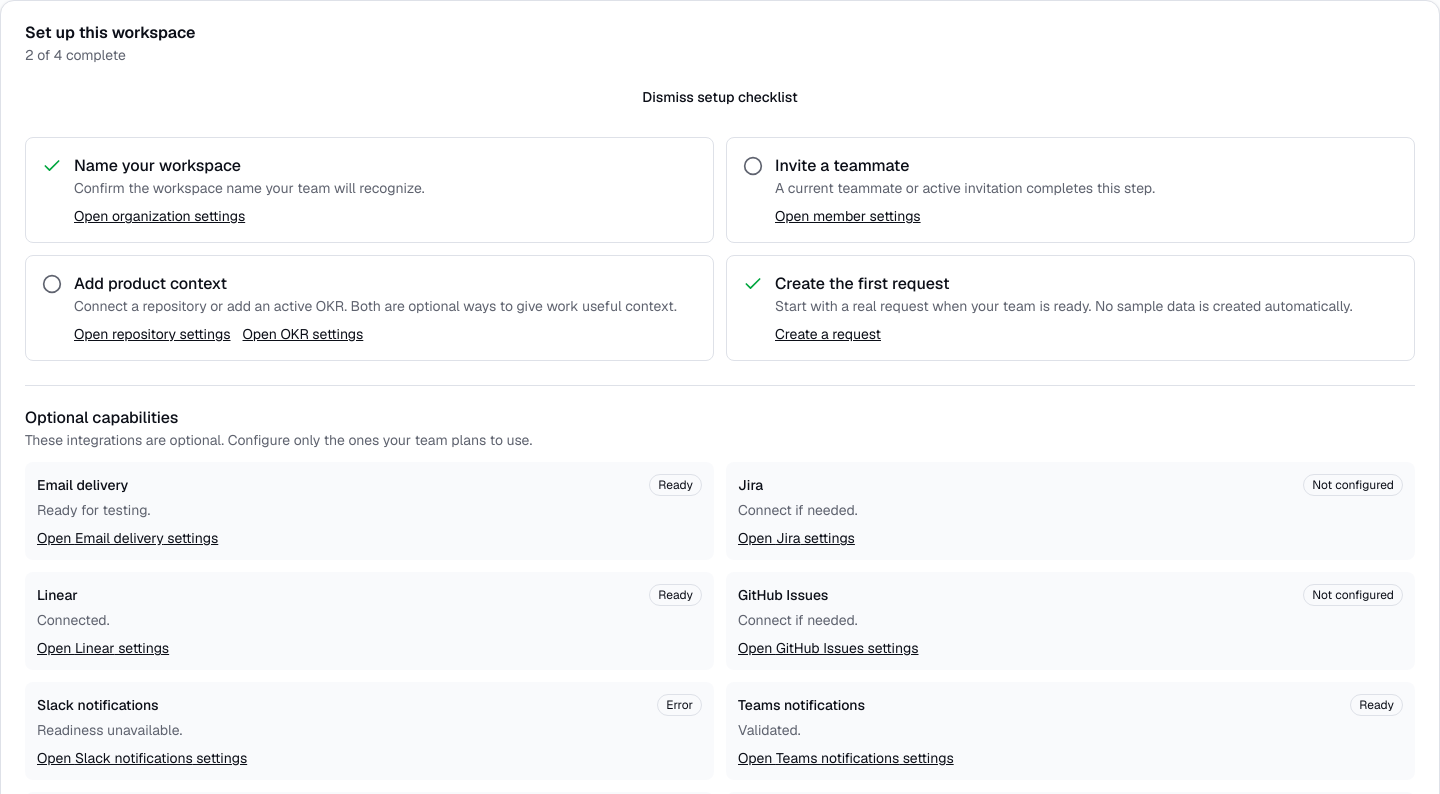
Test case: workspace setup checklist › keeps the checklist visible when persistence fails
Click the button "Dismiss setup checklist". click: click(720, 97)
box: x1=25 y1=81 x2=1415 y2=113
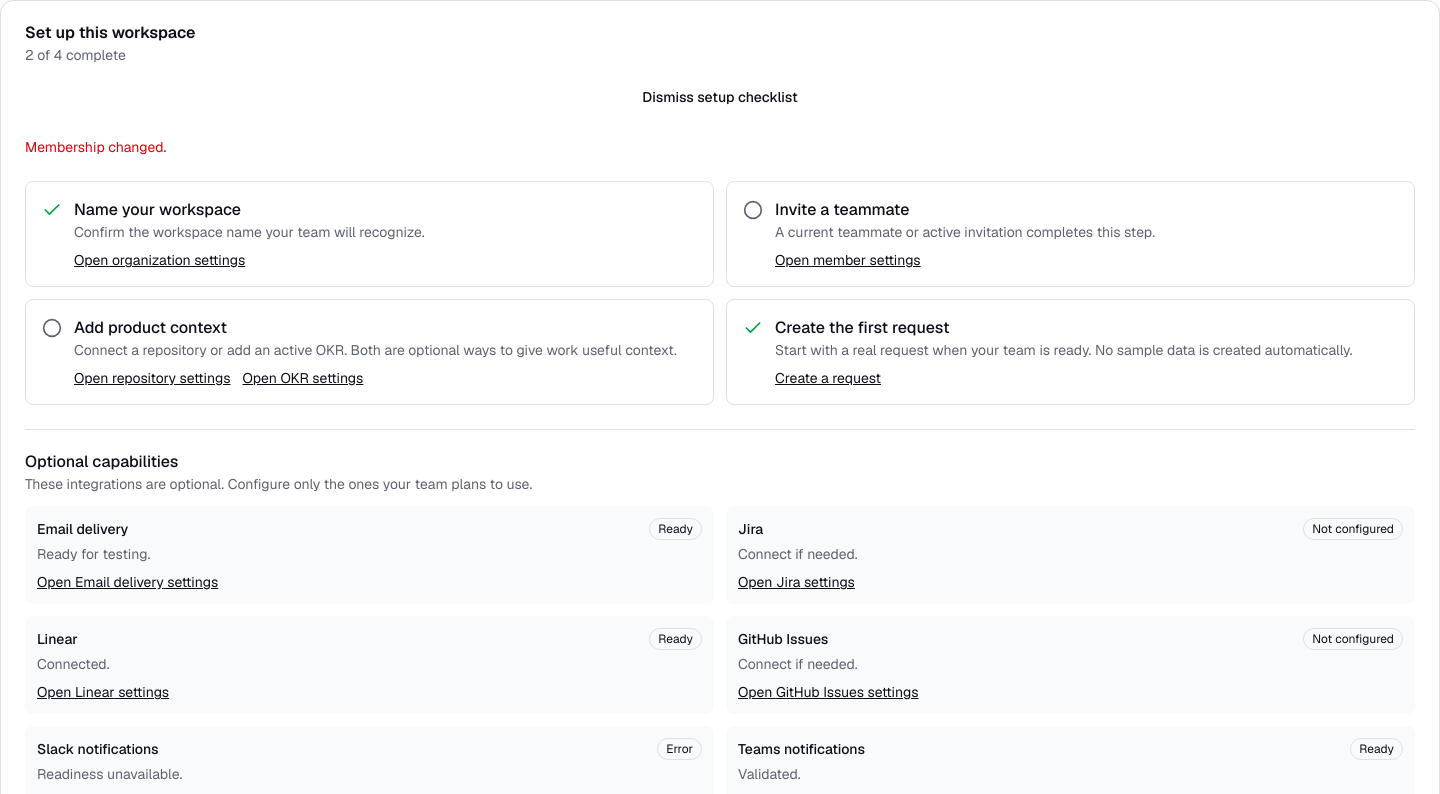
Check: the text "2 of 4 complete" is shown, box x1=25 y1=46 x2=126 y2=64
Check: the message reads "Membership changed.", box x1=25 y1=138 x2=166 y2=156
